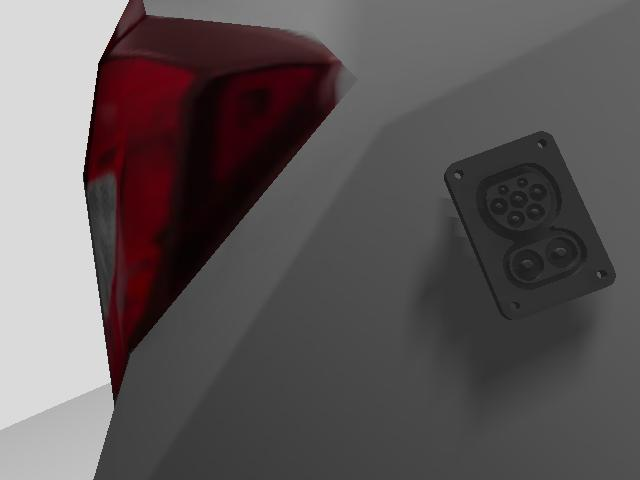EV-socket: (445, 132, 613, 317)
